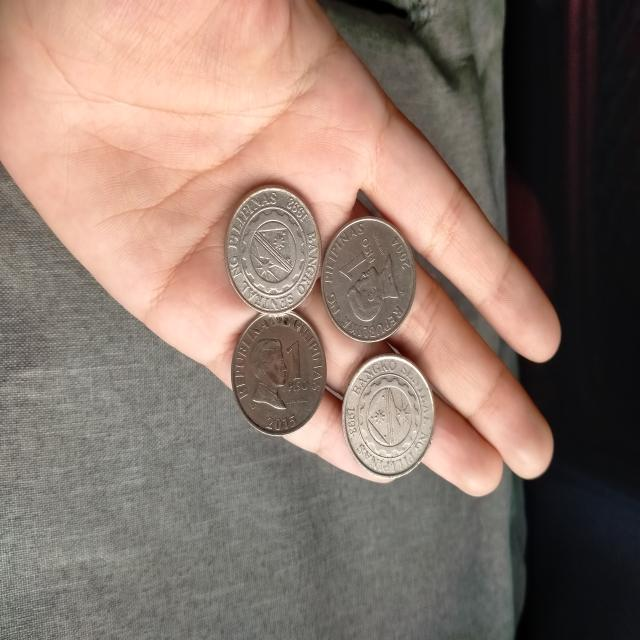1_Old_Back: (350, 371, 424, 466), (238, 202, 308, 299)
